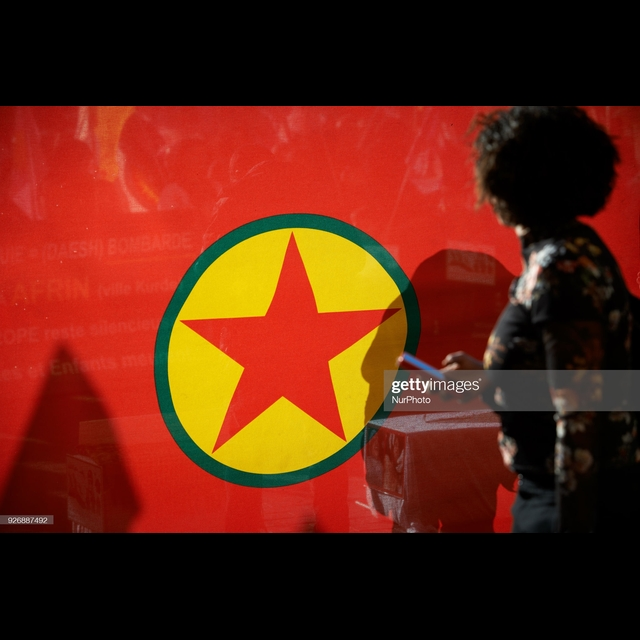PKK: (125, 207, 430, 505)
